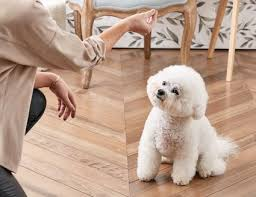dog_sitting: (135, 63, 238, 187)
